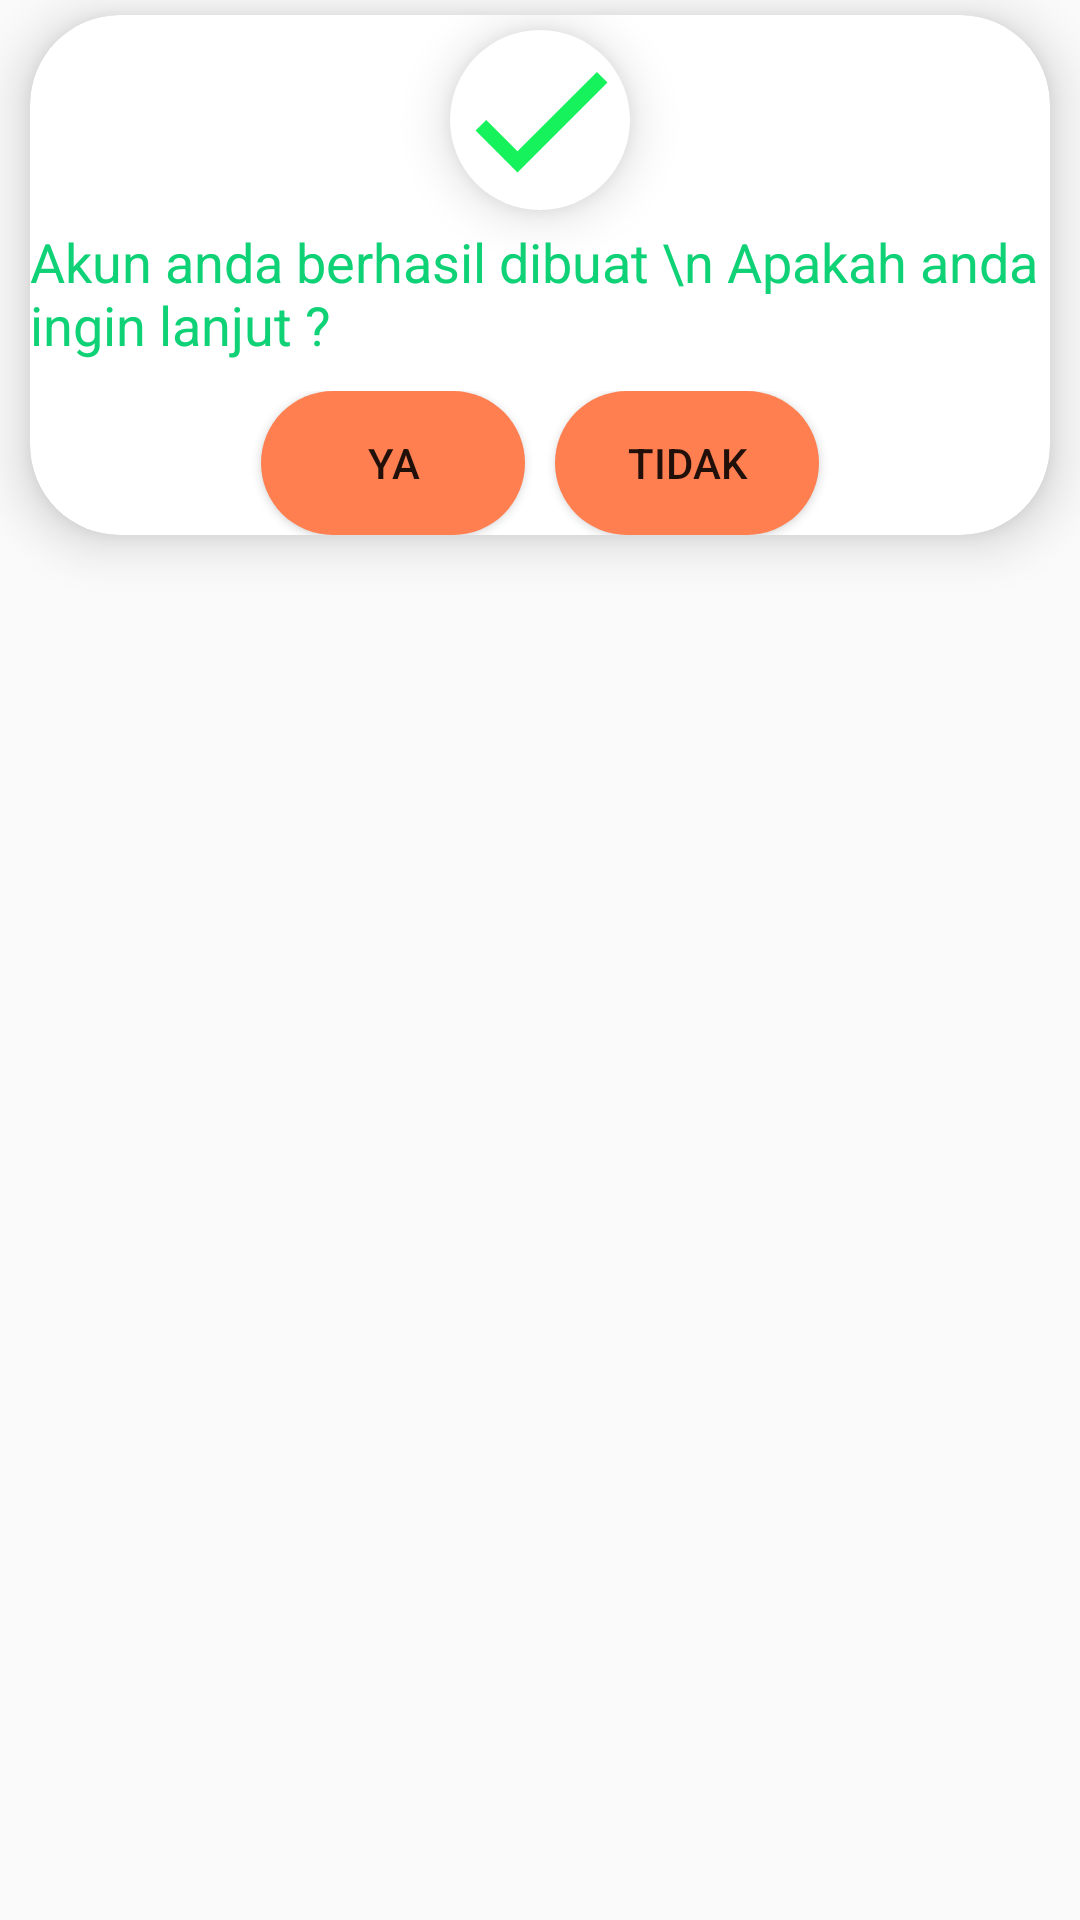

Point at icon controls on the screen. Image size 1080px×1920px, points as (x=x, y=y).
check: (x=541, y=122)
